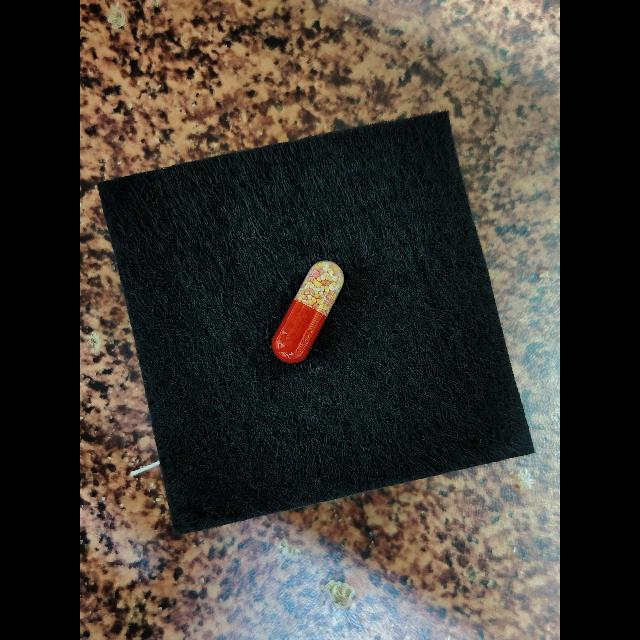Intact Capsule: (271, 260, 344, 363)
